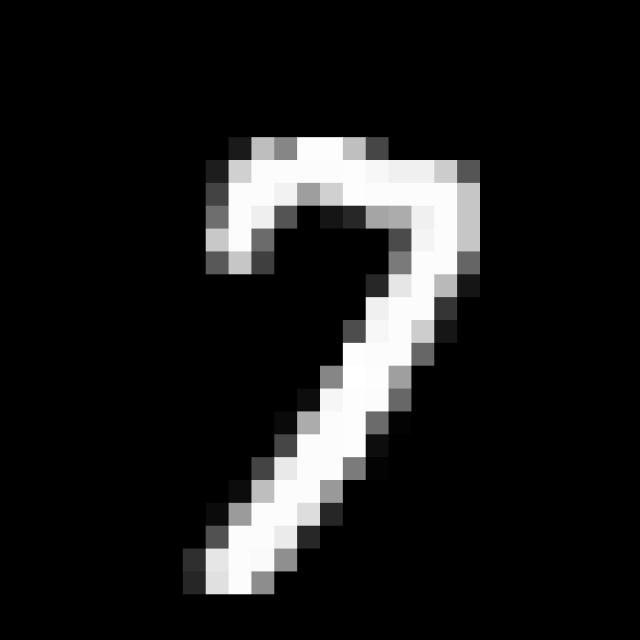seven -7-: (192, 128, 493, 599)
